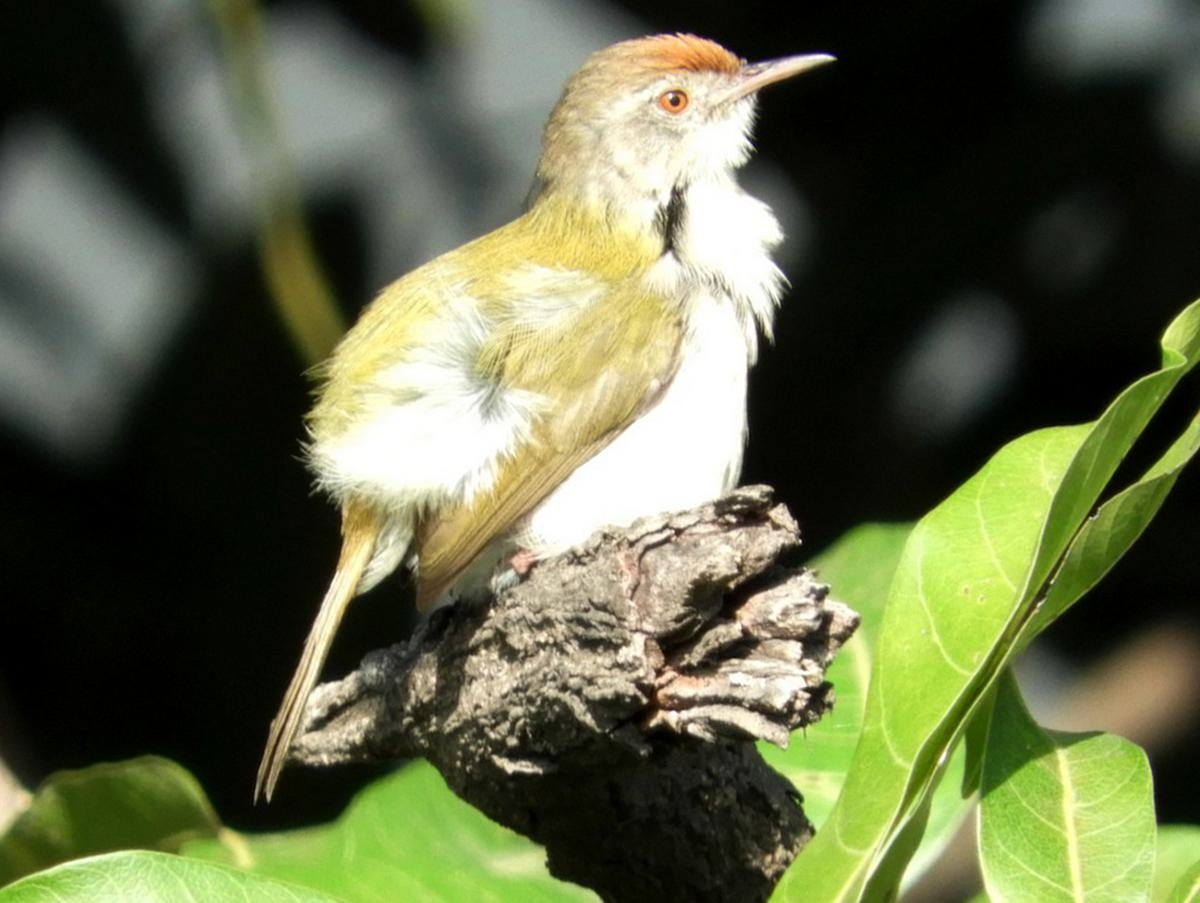tailorbird: (281, 23, 826, 616)
